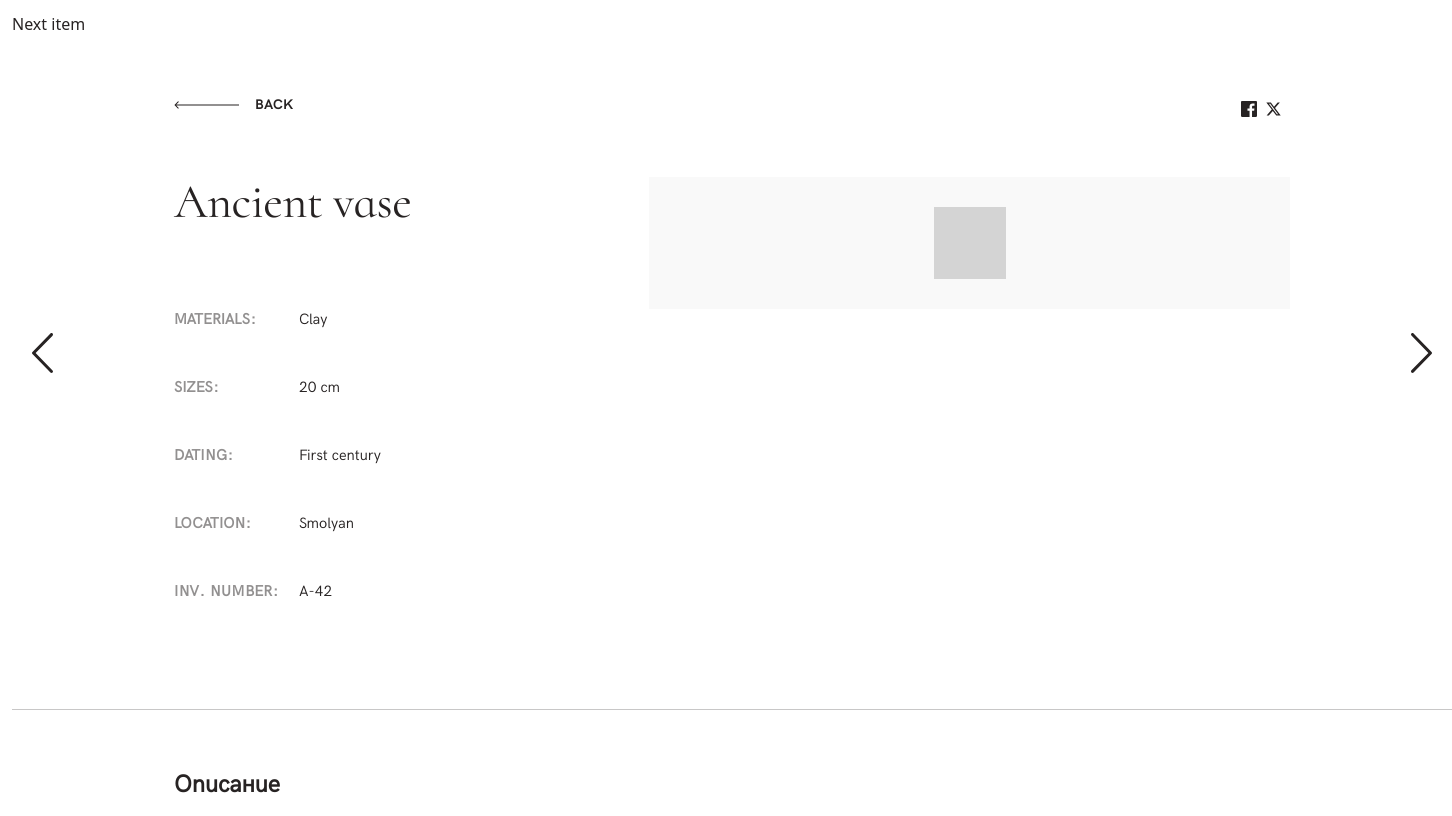
Scenario: CollectionsDetailItem › uses an existing collection for desktop arrow navigation without fetching it again
Expected: the heading "Ancient vase" is shown, [174,179,412,227]
Hover over the link with class "left-arrow" at (42, 353), box [32,333,53,373]
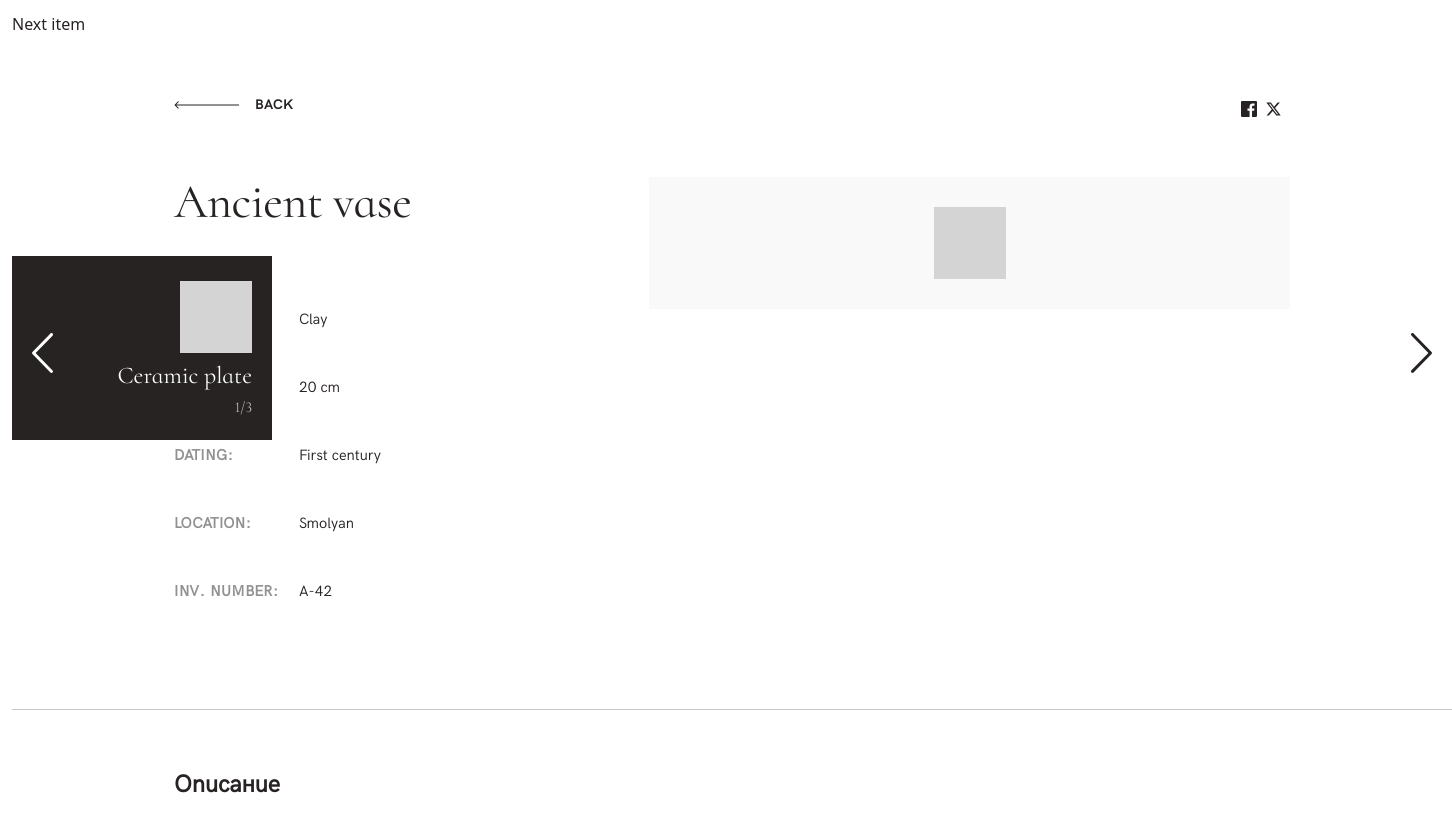
Expected: the heading "Ceramic plate" is shown, [118,363,252,390]
Expected: the text "1/3" is shown, [234,400,252,415]
